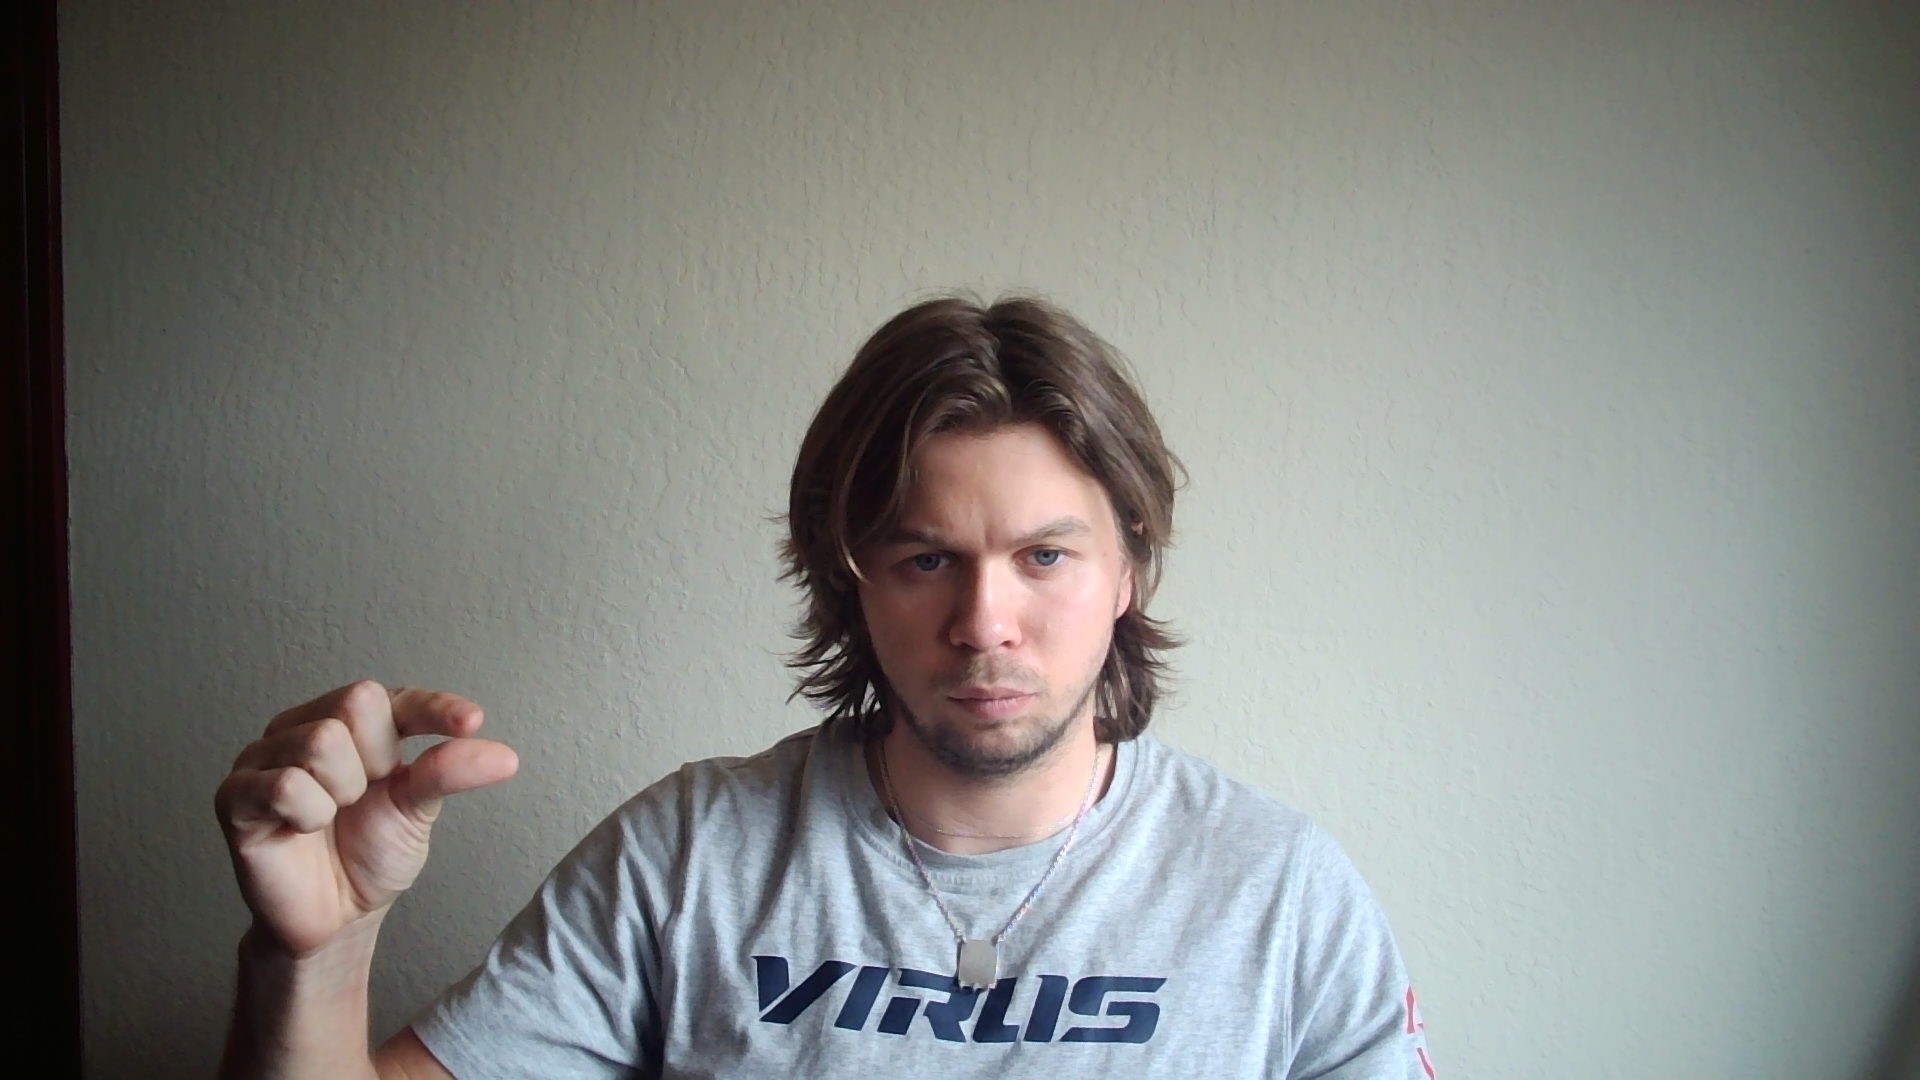small: (215, 680, 518, 952)
